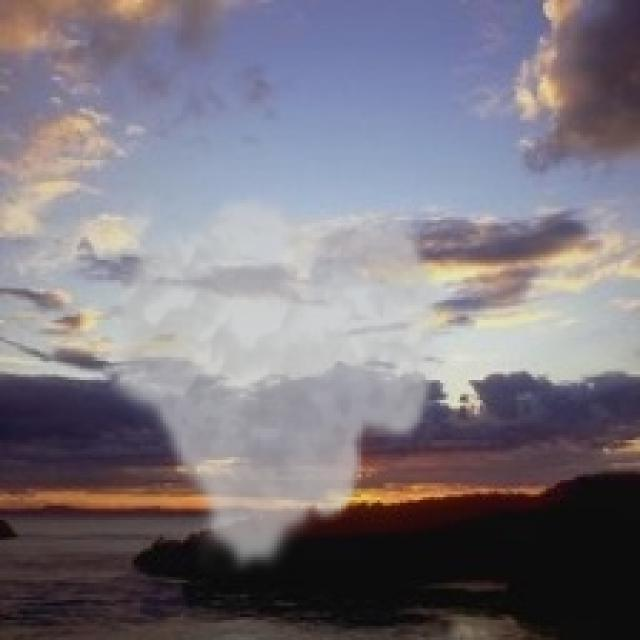Smoke: (100, 192, 449, 574)
